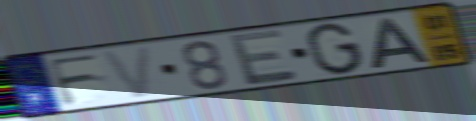8: (181, 39, 229, 91)
A: (369, 16, 432, 71)
E: (225, 27, 301, 88)
F: (44, 51, 104, 108)
G: (305, 21, 366, 77)
V: (98, 43, 154, 100)
